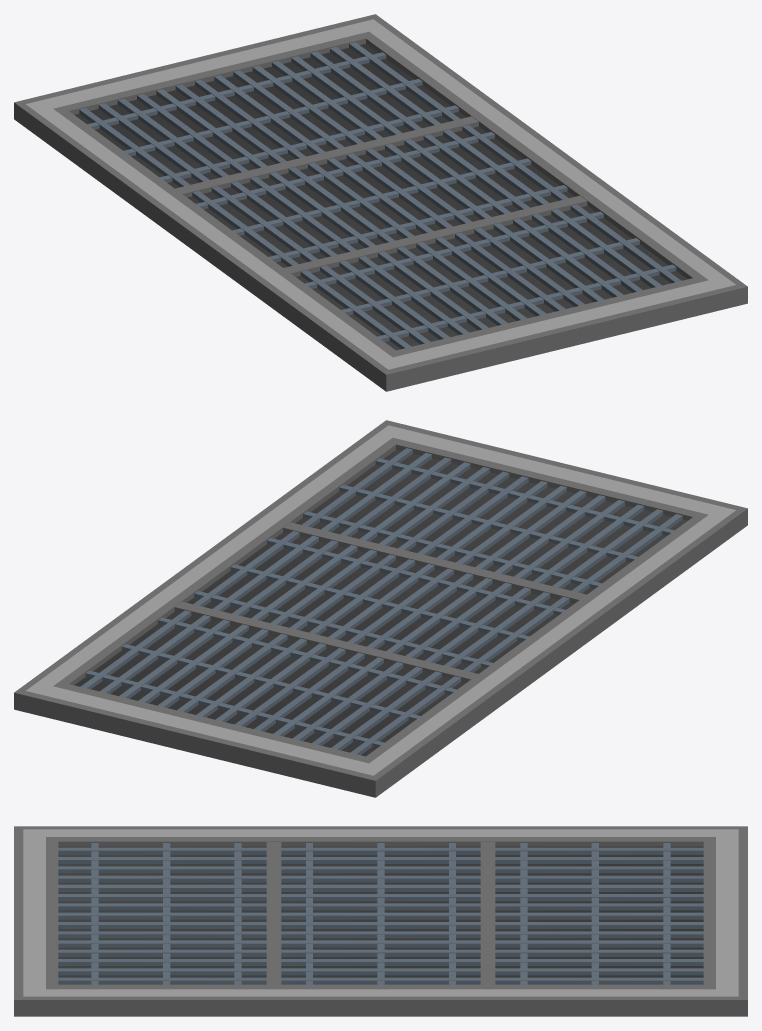
Rendered from Grate_1_B.fbx.
The picture shows the model from 3 angles, top to bottom: view 1: azimuth 30°, elevation 25°; view 2: azimuth 150°, elevation 25°; view 3: azimuth 270°, elevation 25°; orthographic projection.
Parts seen in each view (by area): view 1: Grate_1_B; view 2: Grate_1_B; view 3: Grate_1_B.
Boxes of the visible parts, box(x1,y1,x2,y2) form: Grate_1_B: box(14, 14, 747, 391); Grate_1_B: box(14, 420, 747, 797); Grate_1_B: box(14, 826, 747, 1016).
Size of the model in its own units: 81.5 by 3.65 by 145.
